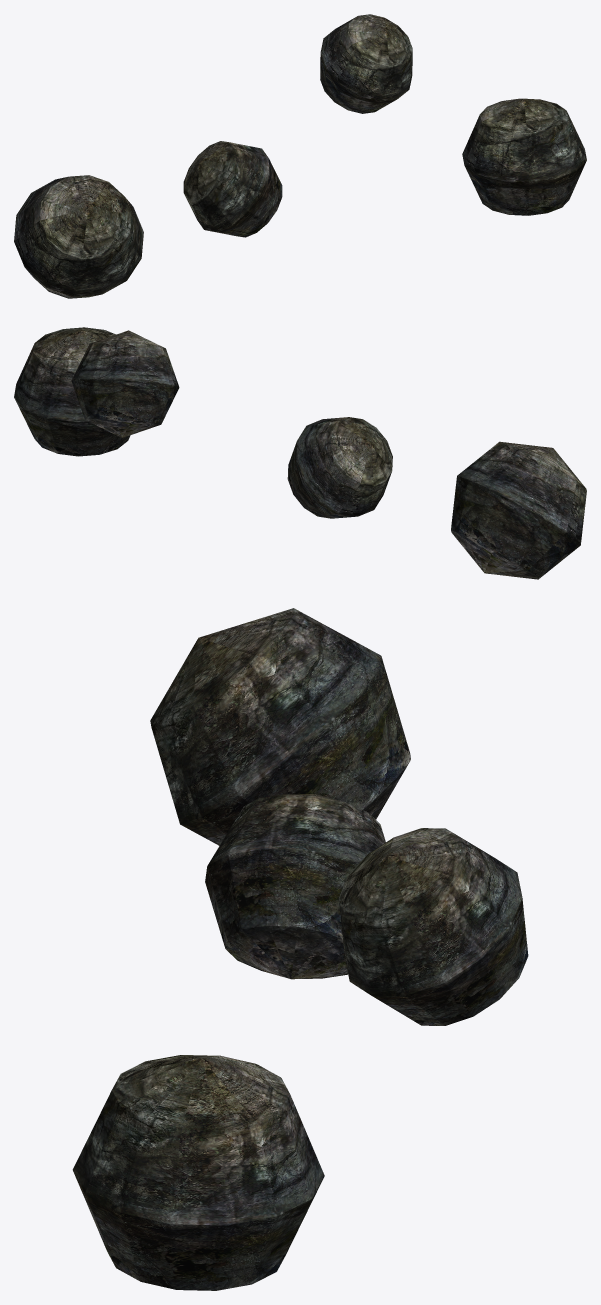
Rendered from rocks.obj.
3 renders of one model, top to bottom at view 1: azimuth 30°, elevation 25°; view 2: azimuth 150°, elevation 25°; view 3: azimuth 270°, elevation 25°, orthographic. The views are drawn at different scales.
Parts seen in each view (by area): view 1: rocks_Sphere.003; view 2: rocks_Sphere.003; view 3: rocks_Sphere.003.
Boxes of the visible parts, box(x1,y1,x2,y2) form: rocks_Sphere.003: box(14, 14, 586, 298); rocks_Sphere.003: box(14, 327, 586, 579); rocks_Sphere.003: box(72, 608, 528, 1290).
Bounding box in the file's own units: 9.77 × 3.06 × 3.61.
1 material, 1 textured.
